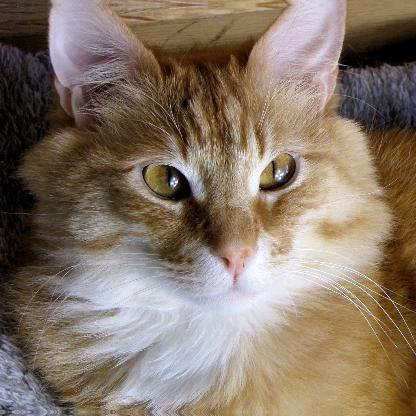Cat: (5, 4, 415, 410)
